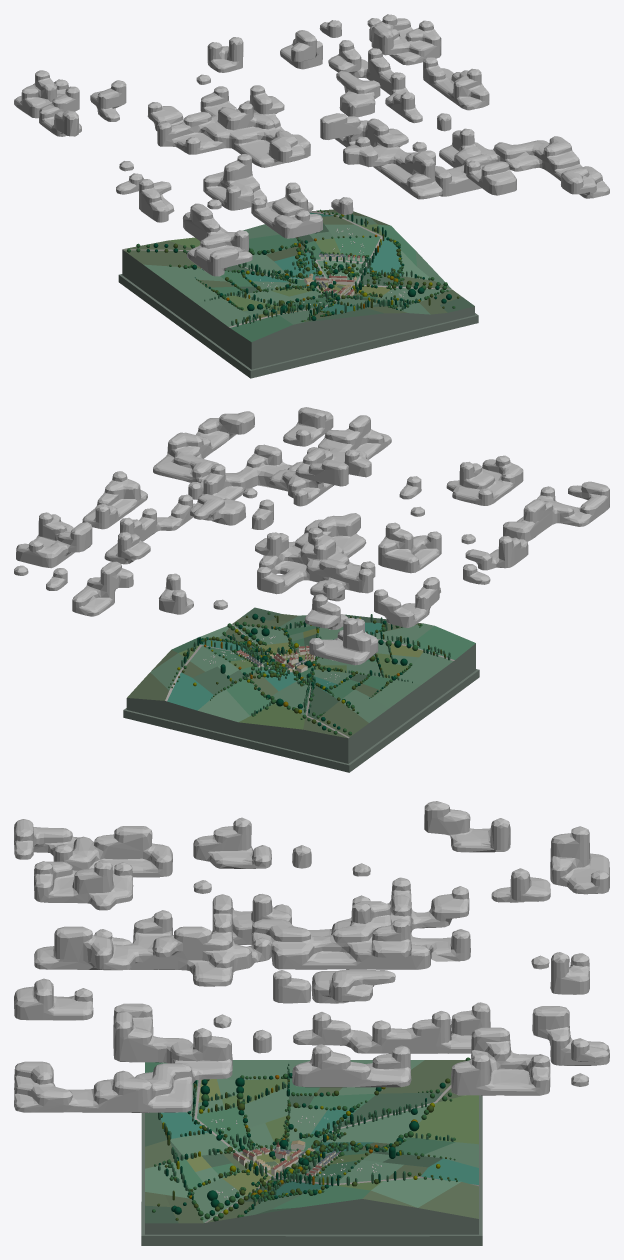
The model's file is Campagne_01.fbx.
3 views of the same model, one above another, from view 1: azimuth 30°, elevation 25°; view 2: azimuth 150°, elevation 25°; view 3: azimuth 270°, elevation 25° (orthographic). The views are drawn at different scales.
Visible parts, largest first — view 1: Nuages_01, Sol, Socle, Foret, Village; view 2: Nuages_01, Sol, Socle, Foret, Village; view 3: Nuages_01, Sol, Socle, Foret, Village.
Part boxes in pixels (<box>): Nuages_01: <box>14,14,609,276</box>; Sol: <box>123,209,474,342</box>; Socle: <box>118,249,478,378</box>; Foret: <box>127,209,459,326</box>; Village: <box>304,253,364,296</box>; Nuages_01: <box>14,407,609,665</box>; Sol: <box>127,607,475,738</box>; Socle: <box>123,643,479,772</box>; Foret: <box>168,612,450,735</box>; Village: <box>236,645,313,672</box>; Nuages_01: <box>14,801,609,1112</box>; Sol: <box>145,1060,478,1223</box>; Socle: <box>141,1095,482,1245</box>; Foret: <box>152,1057,470,1221</box>; Village: <box>233,1140,341,1176</box>.
Bounding box in the file's own units: 178 × 90.49 × 178.
